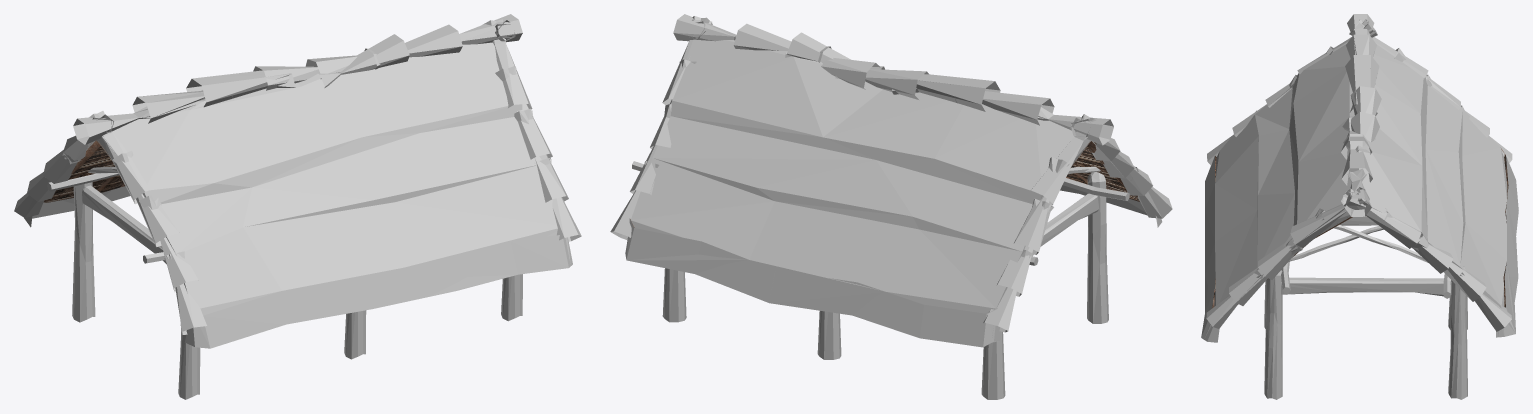
The model's file is Shelter_1_LOD1.fbx.
3 renders of one model, left to right at view 1: azimuth 30°, elevation 25°; view 2: azimuth 150°, elevation 25°; view 3: azimuth 270°, elevation 25°, orthographic. The views are drawn at different scales.
Parts seen in each view (by area): view 1: Alphas, Wood, Roof; view 2: Alphas, Wood, Roof; view 3: Alphas, Wood, Roof.
Boxes of the visible parts, x1,y1,x2,y2 form: Alphas: (14, 14, 581, 348); Wood: (47, 158, 550, 399); Roof: (43, 140, 125, 202); Alphas: (610, 14, 1172, 347); Wood: (632, 161, 1129, 399); Roof: (630, 141, 1139, 227); Alphas: (1201, 14, 1518, 342); Wood: (1264, 216, 1467, 399); Roof: (1212, 148, 1508, 308).
Bounding box in the file's own units: 1933 × 1405 × 1118.
